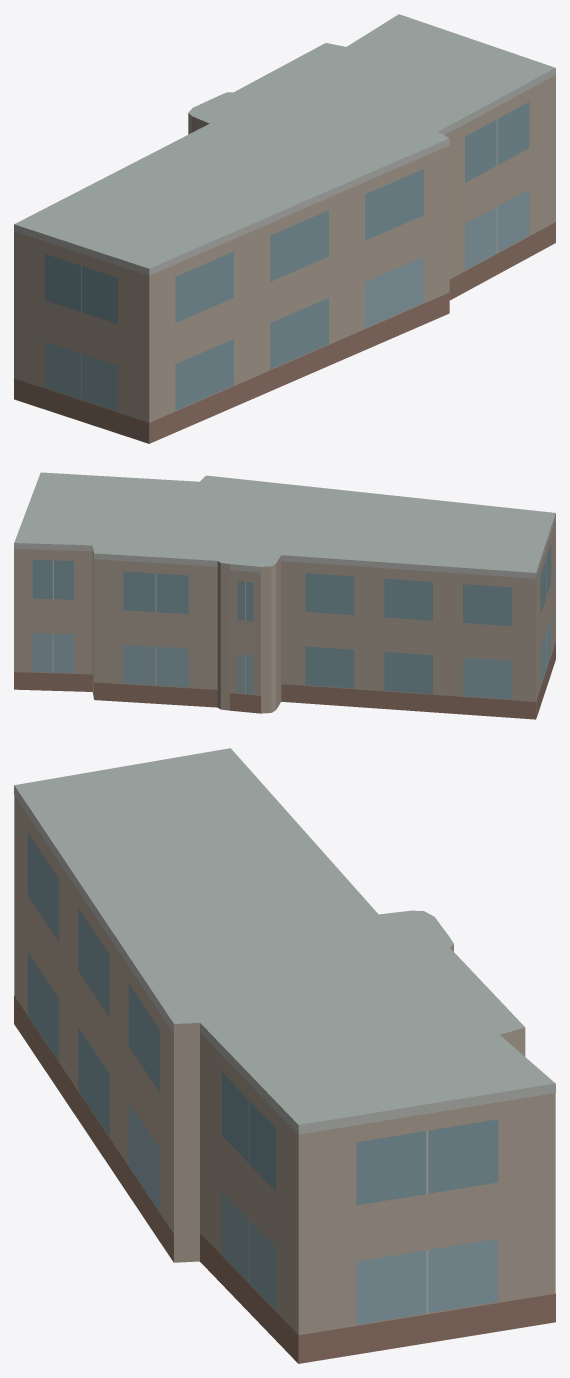
Rendered from survey-upis-32797637.glb.
3 views of the same model, one above another, from view 1: azimuth 30°, elevation 25°; view 2: azimuth 150°, elevation 25°; view 3: azimuth 270°, elevation 25° (orthographic). The views are drawn at different scales.
Parts seen in each view (by area): view 1: survey-upis-32797637.tmp; view 2: survey-upis-32797637.tmp; view 3: survey-upis-32797637.tmp.
Boxes of the visible parts, box(x1,y1,x2,y2) form: survey-upis-32797637.tmp: box(14, 14, 555, 443); survey-upis-32797637.tmp: box(14, 472, 555, 719); survey-upis-32797637.tmp: box(14, 748, 555, 1363).
Bounding box in the file's own units: 20.67 × 6.1 × 12.55.
